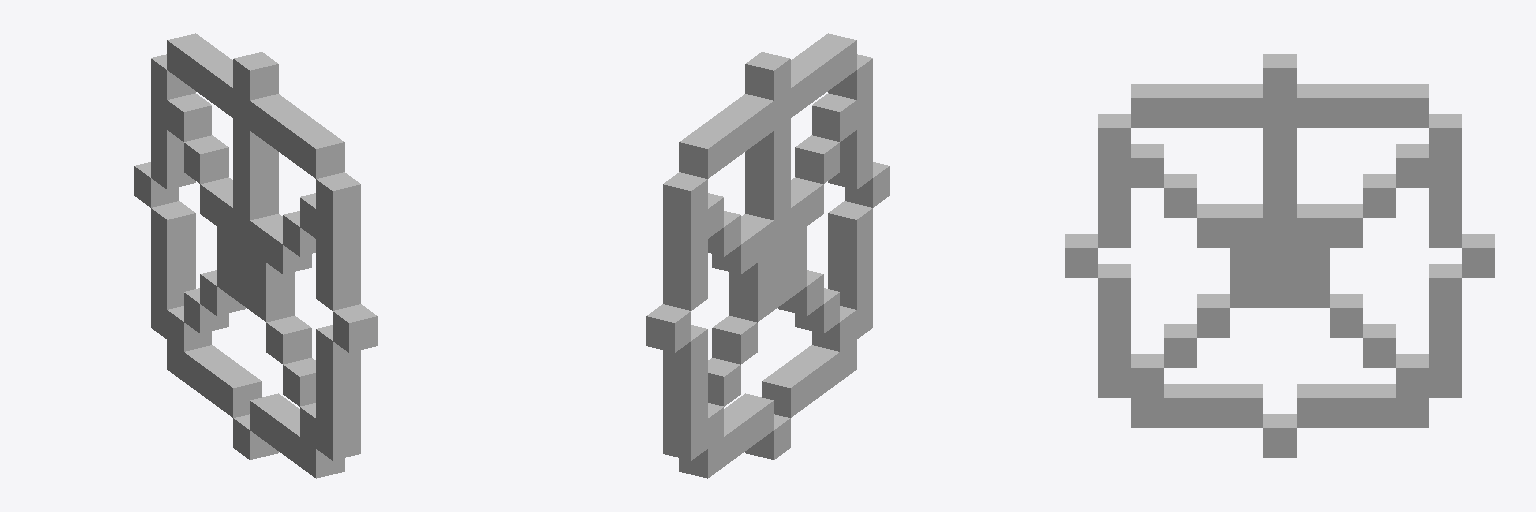
File: SkateJante1.obj
3 renders of one model, left to right at view 1: azimuth 30°, elevation 25°; view 2: azimuth 150°, elevation 25°; view 3: azimuth 270°, elevation 25°, orthographic.
Visible parts, largest first — view 1: object 1; view 2: object 1; view 3: object 1.
Part boxes in pixels (x1,y1,x2,y2): object 1: (134, 33, 377, 478); object 1: (646, 33, 889, 478); object 1: (1065, 54, 1494, 457).
Size of the model in its own units: 0.1 by 1.3 by 1.3.